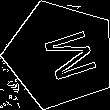M_W: (28, 24, 93, 85)
